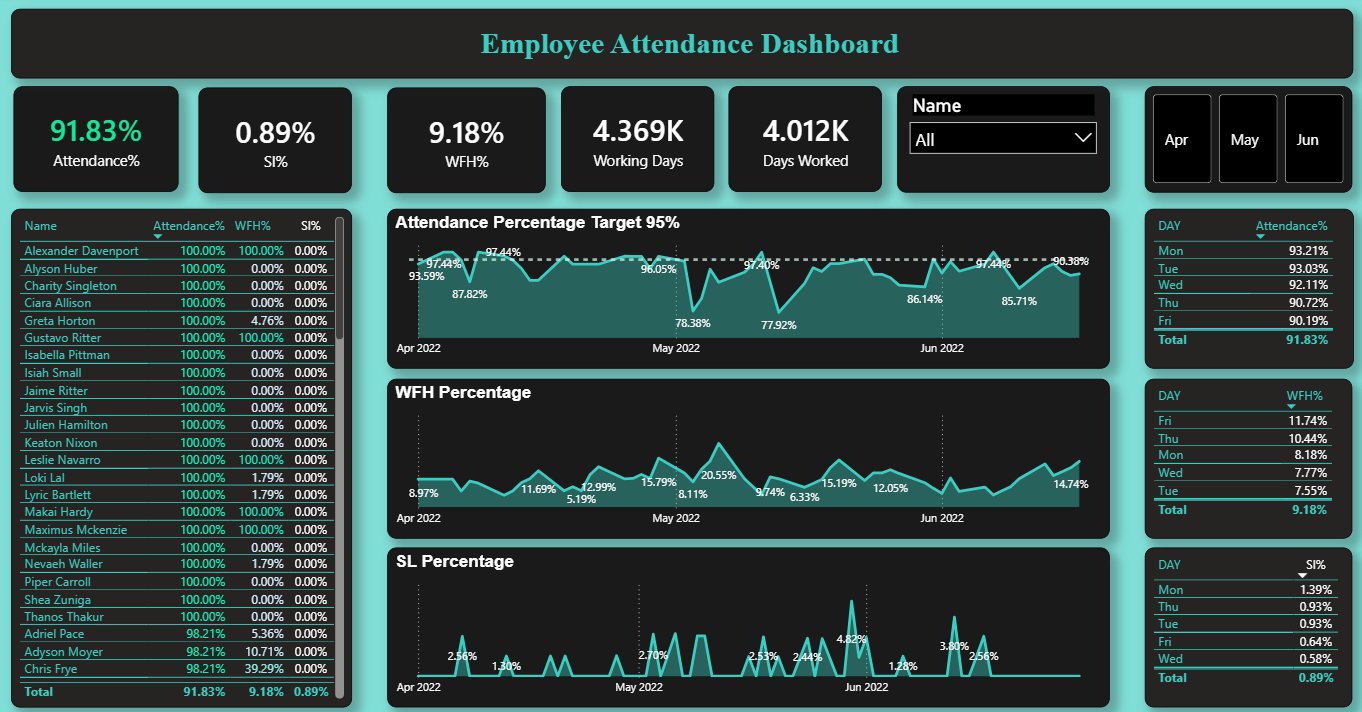

This screenshot's page, from the dashboard's own definition file:
{"tool":"powerbi","page":{"name":"Apr-Jun 2022","canvas":[1500,800],"ordinal":0},"visuals":[{"type":"cardVisual","fields":{"Data":["Measure Table.AP"]},"box":[19.8,98.9,179.8,115.3],"z":0},{"type":"cardVisual","fields":{"Data":["Measure Table.WFH%"]},"box":[426.7,100.9,172.9,115.3],"z":1000},{"type":"areaChart","title":"Attendance Percentage Target 95%","fields":{"Y":["Measure Table.AP"],"Category":["Final Data.Attribute.Variation.Date Hierarchy.Year","Final Data.Attribute.Variation.Date Hierarchy.Quarter","Final Data.Attribute.Variation.Date Hierarchy.Month","Final Data.Attribute.Variation.Date Hierarchy.Day"]},"box":[426.7,233.1,788,174],"z":2000},{"type":"advancedSlicerVisual","title":"Month","fields":{"Values":["Final Data.Month"]},"box":[1252.9,99.5,226.3,115.9],"z":3000},{"type":"slicer","fields":{"Values":["Final Data.Name"]},"box":[983,99.5,231.8,115.9],"z":4000},{"type":"textbox","box":[16.4,15,1464.2,76.3],"z":5000},{"type":"stackedAreaChart","title":"WFH Percentage","fields":{"Y":["Measure Table.WFH%"],"Category":["Final Data.Attribute.Variation.Date Hierarchy.Year","Final Data.Attribute.Variation.Date Hierarchy.Quarter","Final Data.Attribute.Variation.Date Hierarchy.Month","Final Data.Attribute.Variation.Date Hierarchy.Day"]},"box":[426.7,417.9,788,174],"z":6000},{"type":"tableEx","fields":{"Values":["Final Data.Name","Measure Table.AP","Measure Table.WFH%","Measure Table.Sl%"]},"box":[16.4,233.1,372.2,544],"z":7000},{"type":"cardVisual","fields":{"Data":["Measure Table.Sl%"]},"box":[220.9,100.9,167.4,115.3],"z":8000},{"type":"stackedAreaChart","title":"SL Percentage","fields":{"Y":["Measure Table.Sl%"],"Category":["Final Data.Attribute.Variation.Date Hierarchy.Year","Final Data.Attribute.Variation.Date Hierarchy.Quarter","Final Data.Attribute.Variation.Date Hierarchy.Month","Final Data.Attribute.Variation.Date Hierarchy.Day"]},"box":[426.7,602.6,788,174.5],"z":9000},{"type":"tableEx","fields":{"Values":["Final Data.DAY","Measure Table.AP"]},"box":[1252.9,233.1,227.7,174.5],"z":10000},{"type":"tableEx","fields":{"Values":["Final Data.DAY","Measure Table.WFH%"]},"box":[1252.9,418.5,226.3,174.5],"z":11000},{"type":"tableEx","fields":{"Values":["Final Data.DAY","Measure Table.Sl%"]},"box":[1252.9,602.6,226.3,174.5],"z":12000},{"type":"cardVisual","fields":{"Data":["Measure Table.TWD"]},"box":[616.2,99.5,167.4,115.3],"z":13000},{"type":"cardVisual","fields":{"Data":["Measure Table.TDW"]},"box":[798.9,98.9,167.4,115.3],"z":14000}]}

Visuals, with their boxes in screenshot pixels (x1, y1, x2, y2), scaled from the page's 1500x800 canvas onto the 1362x712 screenshot:
cardVisual - Measure Table.AP: [18, 88, 181, 191]
cardVisual - Measure Table.WFH%: [387, 90, 544, 192]
"Attendance Percentage Target 95%" areaChart: [387, 207, 1103, 362]
"Month" advancedSlicerVisual: [1138, 89, 1343, 192]
slicer - Final Data.Name: [893, 89, 1103, 192]
textbox: [15, 13, 1344, 81]
"WFH Percentage" stackedAreaChart: [387, 372, 1103, 527]
tableEx - Final Data.Name x Measure Table.AP: [15, 207, 353, 692]
cardVisual - Measure Table.Sl%: [201, 90, 353, 192]
"SL Percentage" stackedAreaChart: [387, 536, 1103, 692]
tableEx - Final Data.DAY x Measure Table.AP: [1138, 207, 1344, 363]
tableEx - Final Data.DAY x Measure Table.WFH%: [1138, 372, 1343, 528]
tableEx - Final Data.DAY x Measure Table.Sl%: [1138, 536, 1343, 692]
cardVisual - Measure Table.TWD: [560, 89, 712, 191]
cardVisual - Measure Table.TDW: [725, 88, 877, 191]
